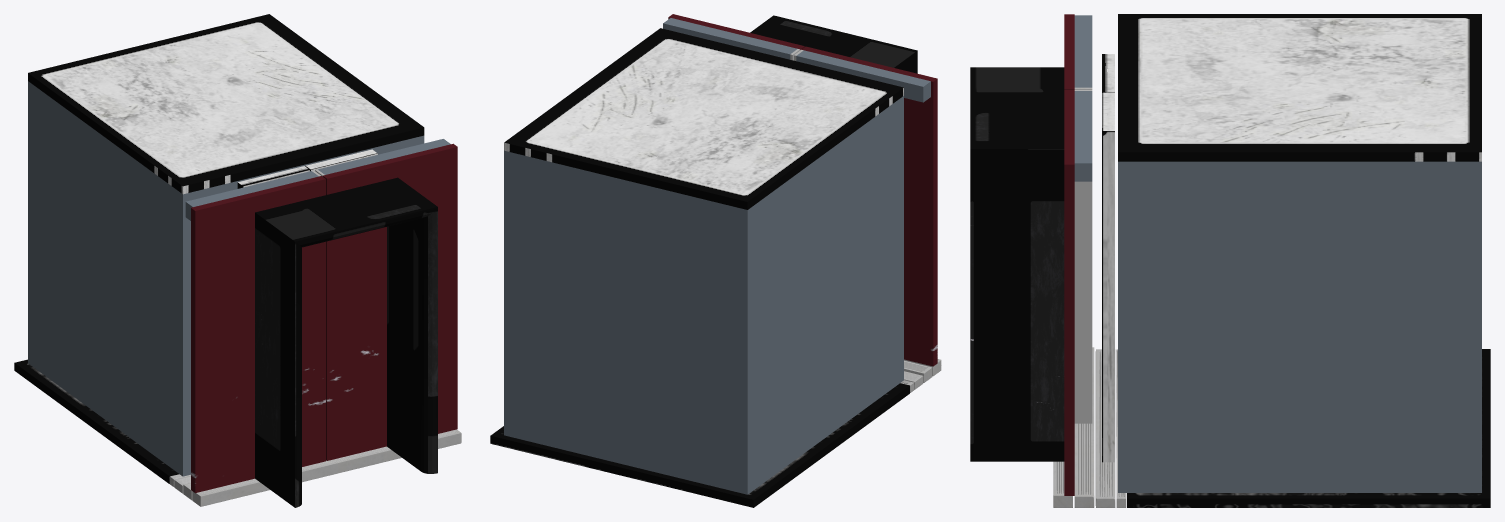
File: elevator.fbx
3 views of the same model, side by side, from view 1: azimuth 30°, elevation 25°; view 2: azimuth 150°, elevation 25°; view 3: azimuth 270°, elevation 25° (orthographic). The views are drawn at different scales.
Visible parts, largest first — view 1: Cube.007, Cube.004, Cube.016, Cube.015, Cube.025, Cube.009, Cube, Cube.026, Cube.005; view 2: Cube.007, Cube.004, Cube.015, Cube, Cube.016, Cube.025; view 3: Cube.007, Cube.004, Cube.016, Cube.025, Cube, Cube.005, Cube.009, Cube.024, Cube.015.
Part boxes in pixels (<box>): Cube.007: <box>28,81,424,476</box>; Cube.004: <box>28,14,424,194</box>; Cube.016: <box>255,177,437,507</box>; Cube.015: <box>185,170,325,493</box>; Cube.025: <box>315,139,457,460</box>; Cube.009: <box>183,429,461,506</box>; Cube: <box>14,359,179,483</box>; Cube.026: <box>237,166,309,188</box>; Cube.005: <box>305,149,377,171</box>; Cube.007: <box>504,96,903,494</box>; Cube.004: <box>504,28,903,209</box>; Cube.015: <box>794,46,937,366</box>; Cube: <box>490,383,909,507</box>; Cube.016: <box>750,15,917,73</box>; Cube.025: <box>663,14,804,60</box>; Cube.007: <box>1118,161,1481,492</box>; Cube.004: <box>1118,14,1481,161</box>; Cube.016: <box>970,67,1064,461</box>; Cube.025: <box>1064,89,1092,495</box>; Cube: <box>1127,349,1490,507</box>; Cube.005: <box>1102,92,1114,462</box>; Cube.009: <box>1053,347,1094,507</box>; Cube.024: <box>1095,349,1126,507</box>; Cube.015: <box>1064,14,1092,89</box>.
Bounding box in the file's own units: 232 × 252 × 339.
